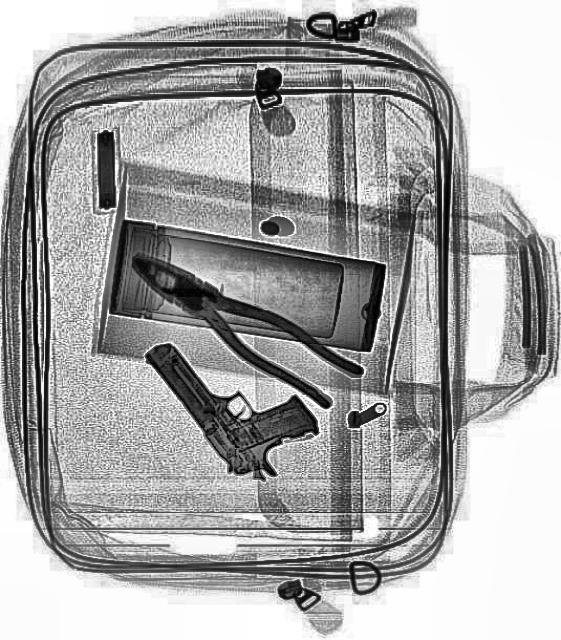Gun: (139, 288, 327, 498)
Pliers: (116, 229, 362, 416)
